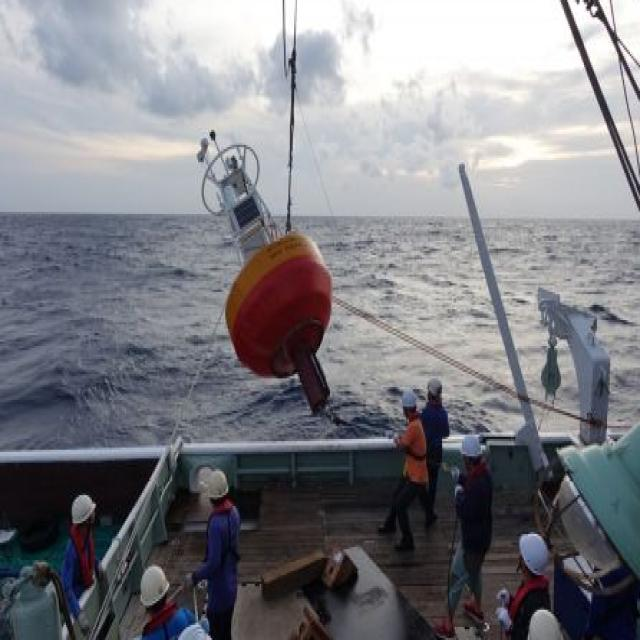buoy: (189, 123, 335, 410)
